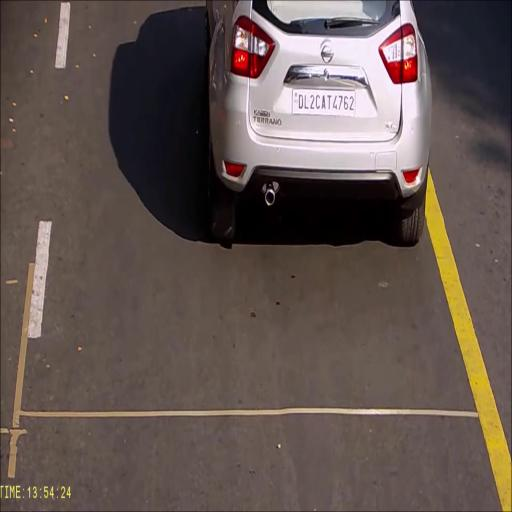License plate: (292, 88, 356, 118)
Vehicle: (206, 0, 432, 249)
